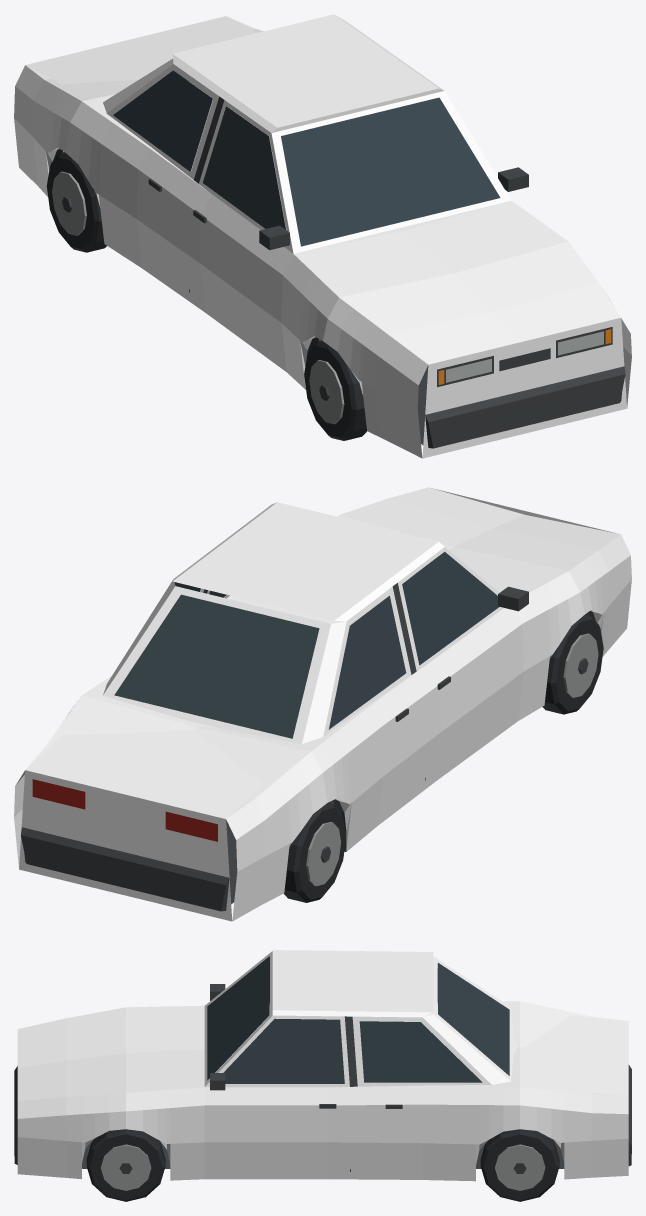
File: sanga_tsukishiro.glb
The picture shows the model from 3 angles, top to bottom: view 1: azimuth 30°, elevation 25°; view 2: azimuth 150°, elevation 25°; view 3: azimuth 270°, elevation 25°; orthographic projection. The views are drawn at different scales.
Parts seen in each view (by area): view 1: sanga_tsukishiro; view 2: sanga_tsukishiro; view 3: sanga_tsukishiro.
Part boxes in pixels (x1,y1,x2,y2): sanga_tsukishiro: (14,14,631,458); sanga_tsukishiro: (14,487,631,921); sanga_tsukishiro: (14,950,631,1201).
Size of the model in its own units: 1.78 by 1.49 by 4.75.
Materials: 8 (1 with a texture image).
